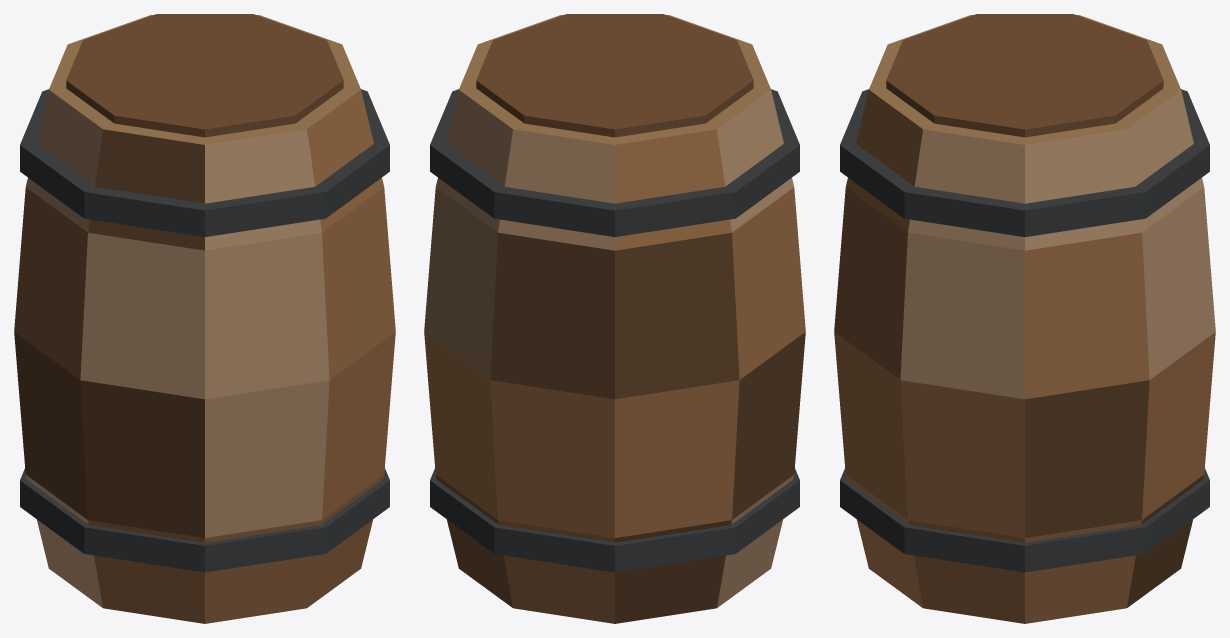
The model's file is SM_Barrel.fbx.
The picture shows the model from 3 angles, left to right: view 1: azimuth 30°, elevation 25°; view 2: azimuth 150°, elevation 25°; view 3: azimuth 270°, elevation 25°; orthographic projection.
Parts seen in each view (by area): view 1: SM_Barrel; view 2: SM_Barrel; view 3: SM_Barrel.
Boxes of the visible parts, x1,y1,x2,y2 form: SM_Barrel: (14,14,395,623); SM_Barrel: (424,14,805,623); SM_Barrel: (834,14,1215,623).
Bounding box in the file's own units: 0.6401 × 0.915 × 0.65.
